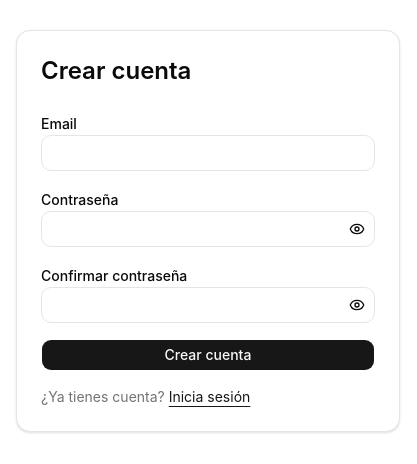
Test case: auth pages › clears a password-mismatch error when editing the password makes both fields match
Type "person@example.com" into the field labelled "Email" at (208,153), box [41,135,375,171]
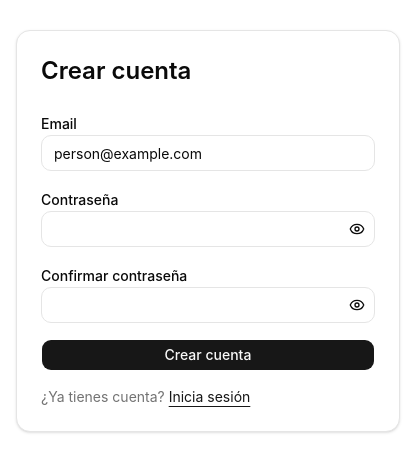
Type "a secure phrase!" into the password field labelled "Contraseña" at (208,229), box [41,211,375,247]
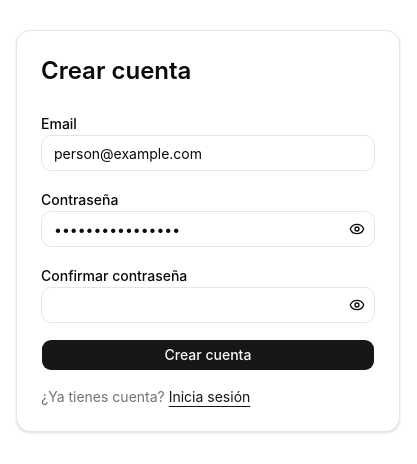
Type "a different secure phrase!" into the password field labelled "Confirmar contraseña" at (208,305), box [41,287,375,323]
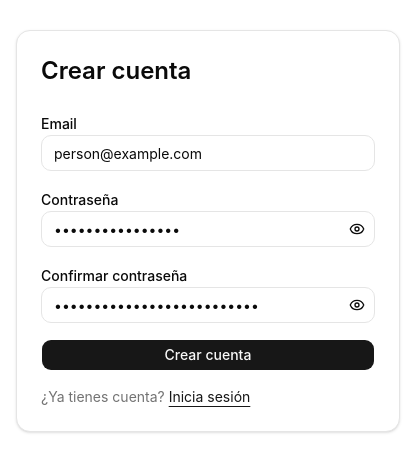
Click the button "Crear cuenta" at (208,355), box [41,339,375,371]
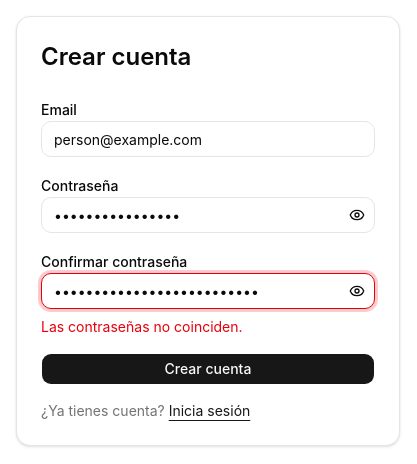
Expected: the text "Las contraseñas no coinciden." is shown, [41,318,243,335]
Type "a different secure phrase!" into the password field labelled "Contraseña" at (208,215), box [41,197,375,233]
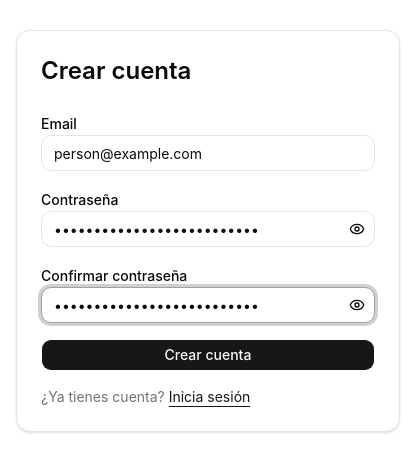
Expected: the text "Las contraseñas no coinciden." is gone
